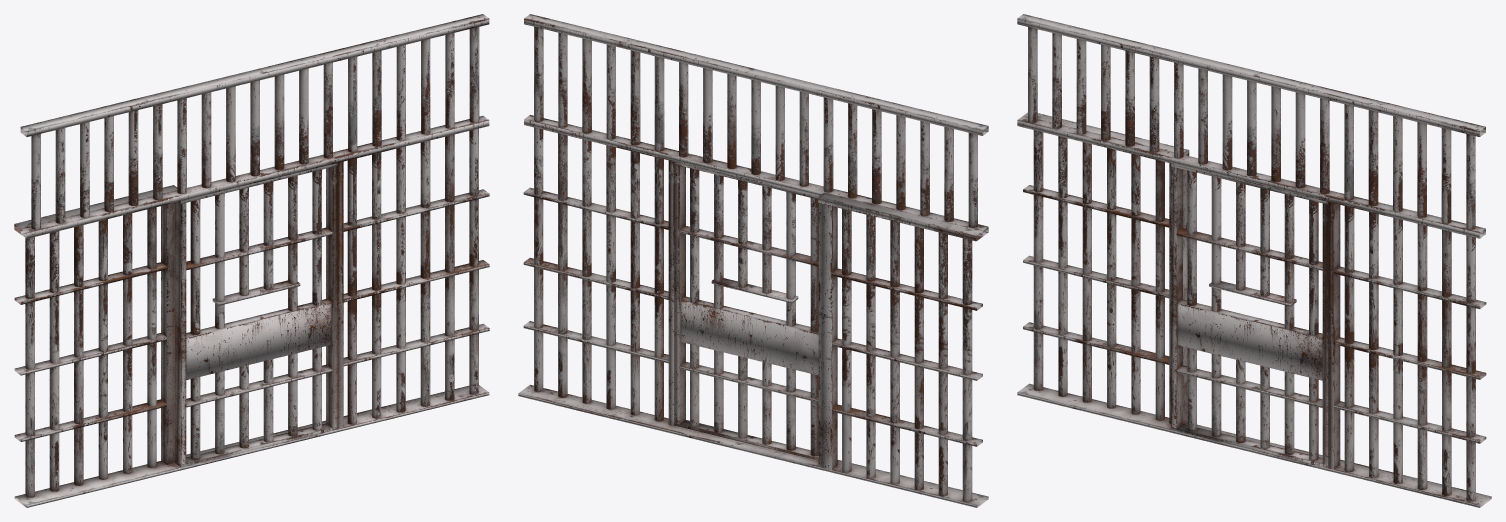
3 views of the same model, side by side, from view 1: azimuth 30°, elevation 25°; view 2: azimuth 150°, elevation 25°; view 3: azimuth 330°, elevation 25° (orthographic).
Visible parts, largest first — view 1: Bars; view 2: Bars; view 3: Bars.
Boxes of the visible parts, left/top/right/bottom form: Bars: left=14, top=14, right=489, bottom=507; Bars: left=518, top=14, right=988, bottom=507; Bars: left=1017, top=14, right=1491, bottom=507.
Size of the model in its own units: 3.87 by 3.01 by 0.1817.
Materials: 1 (1 with a texture image).
